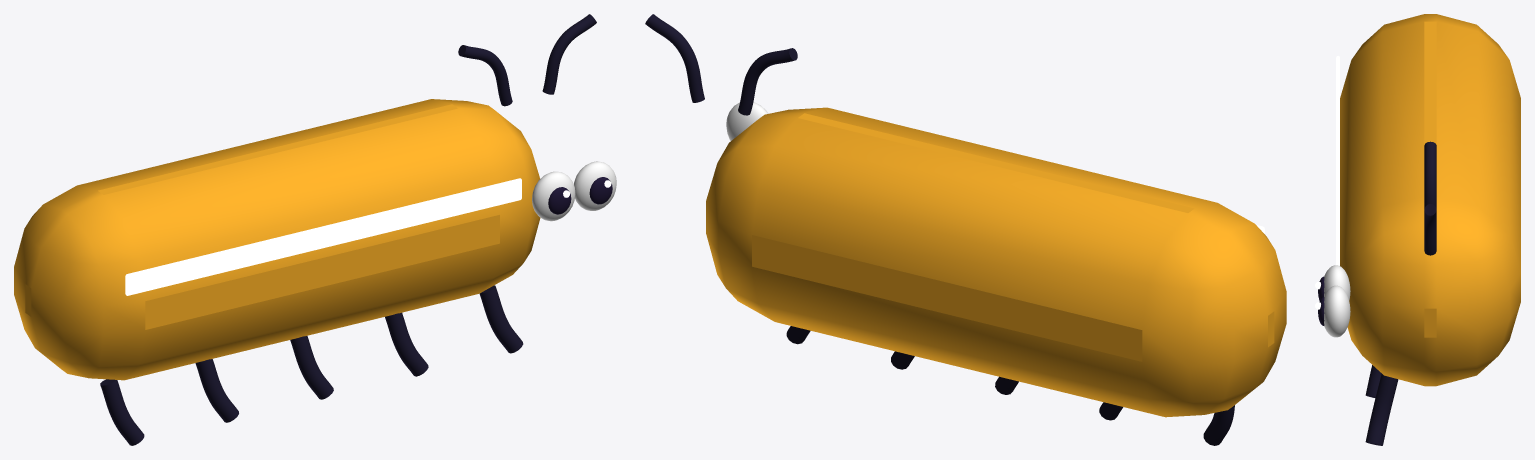
The model's file is clanek_zluty.glb.
3 renders of one model, left to right at view 1: azimuth 30°, elevation 25°; view 2: azimuth 150°, elevation 25°; view 3: azimuth 270°, elevation 25°, orthographic. The views are drawn at different scales.
Parts seen in each view (by area): view 1: clanek_zluty_m, clanek_zluty_pruh, hlava_zluty, clanek_zluty_noha_m_-2, clanek_zluty_noha_m_2, clanek_zluty_noha_m_0, clanek_zluty_noha_m_1, clanek_zluty_noha_m_-1, hlava_zluty_tykadlo_-1; view 2: clanek_zluty_m, hlava_zluty, hlava_zluty_tykadlo_-1, clanek_zluty_noha_m_-2; view 3: clanek_zluty_m, hlava_zluty, clanek_zluty_noha_m_2, clanek_zluty_pruh, hlava_zluty_tykadlo_-1, clanek_zluty_noha_m_1.
Part boxes in pixels (left/top/right/bottom): clanek_zluty_m: left=14, top=99, right=540, bottom=380; clanek_zluty_pruh: left=125, top=178, right=521, bottom=295; hlava_zluty: left=532, top=14, right=616, bottom=221; clanek_zluty_noha_m_-2: left=100, top=379, right=144, bottom=445; clanek_zluty_noha_m_2: left=479, top=285, right=523, bottom=353; clanek_zluty_noha_m_0: left=290, top=336, right=333, bottom=399; clanek_zluty_noha_m_1: left=385, top=312, right=428, bottom=376; clanek_zluty_noha_m_-1: left=195, top=359, right=238, bottom=422; hlava_zluty_tykadlo_-1: left=458, top=45, right=512, bottom=106; clanek_zluty_m: left=706, top=107, right=1286, bottom=417; hlava_zluty: left=645, top=14, right=768, bottom=140; hlava_zluty_tykadlo_-1: left=738, top=48, right=797, bottom=115; clanek_zluty_noha_m_-2: left=1203, top=405, right=1234, bottom=445; clanek_zluty_m: left=1340, top=14, right=1520, bottom=386; hlava_zluty: left=1315, top=203, right=1436, bottom=337; clanek_zluty_noha_m_2: left=1365, top=373, right=1398, bottom=445; clanek_zluty_pruh: left=1336, top=56, right=1339, bottom=265; hlava_zluty_tykadlo_-1: left=1424, top=141, right=1436, bottom=208; clanek_zluty_noha_m_1: left=1365, top=365, right=1381, bottom=397.
Bounding box in the file's own units: 3.29 × 1.62 × 1.02.
